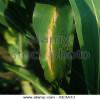Corn leaf blight: (35, 0, 70, 83)
